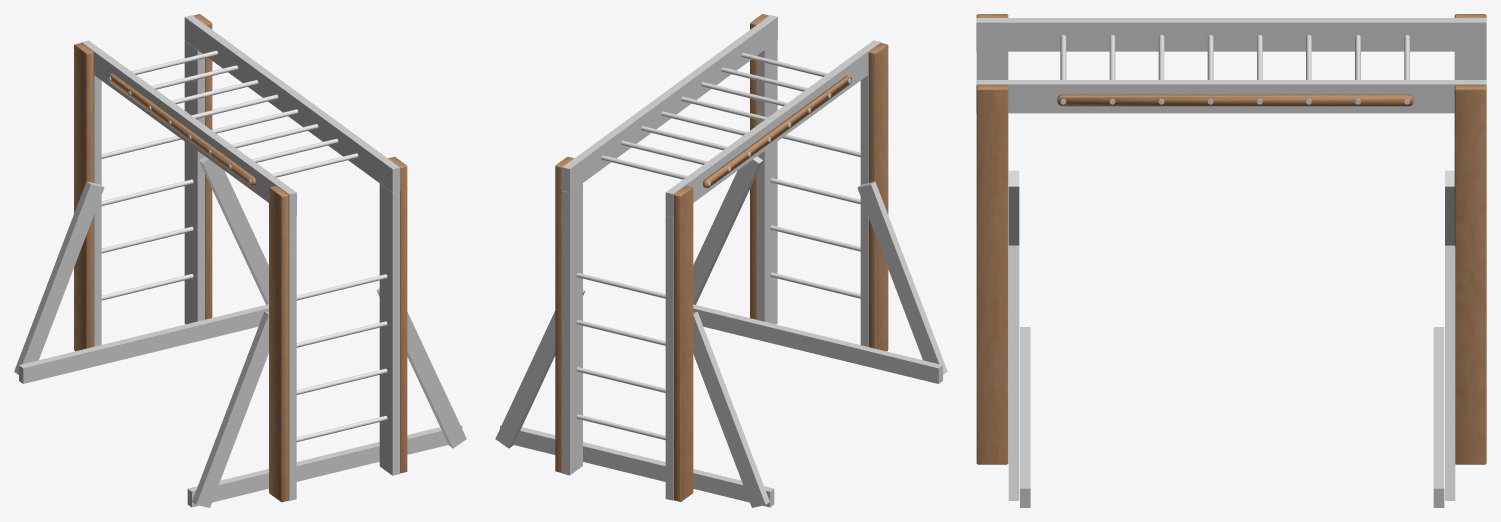
3 renders of one model, left to right at view 1: azimuth 30°, elevation 25°; view 2: azimuth 150°, elevation 25°; view 3: azimuth 270°, elevation 25°, orthographic. The views are drawn at different scales.
Parts seen in each view (by area): view 1: Cube219, Cube219_1, Cube219_2; view 2: Cube219, Cube219_1, Cube219_2; view 3: Cube219, Cube219_1, Cube219_2.
Part boxes in pixels (x1=…): Cube219: x1=14, y1=15, x2=466, y2=507; Cube219_1: x1=74, y1=14, x2=407, y2=502; Cube219_2: x1=101, y1=50, x2=387, y2=441; Cube219: x1=495, y1=15, x2=947, y2=507; Cube219_1: x1=555, y1=14, x2=888, y2=501; Cube219_2: x1=576, y1=53, x2=860, y2=440; Cube219: x1=976, y1=18, x2=1486, y2=507; Cube219_1: x1=976, y1=14, x2=1486, y2=464; Cube219_2: x1=1060, y1=35, x2=1409, y2=104.
Size of the model in its own units: 1.83 by 1.99 by 2.44.
Materials: 3 (1 with a texture image).
